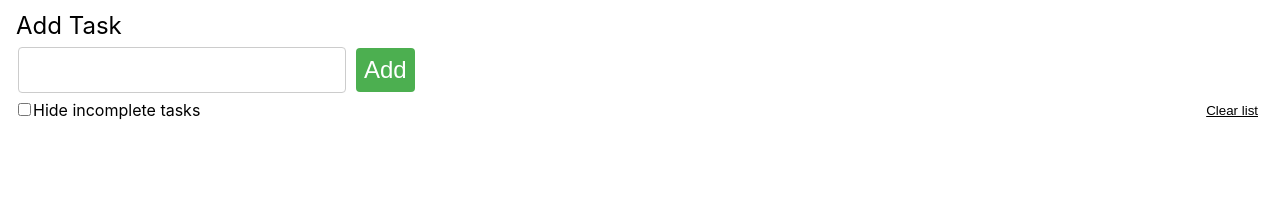
allows the user to clear the list
This screenshot has width=1280, height=203.
Simulate adding tasks as in previous tests
Type "Learn React Testing" into the field labelled "Add Task" at (182, 70), box [18, 47, 346, 93]
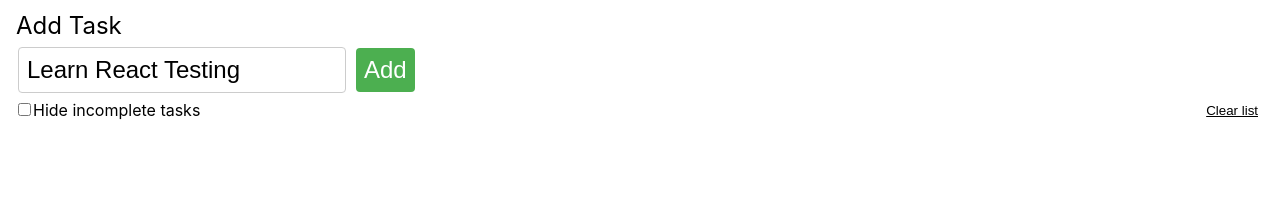
Click the button "Add" at (385, 70), box [356, 48, 415, 92]
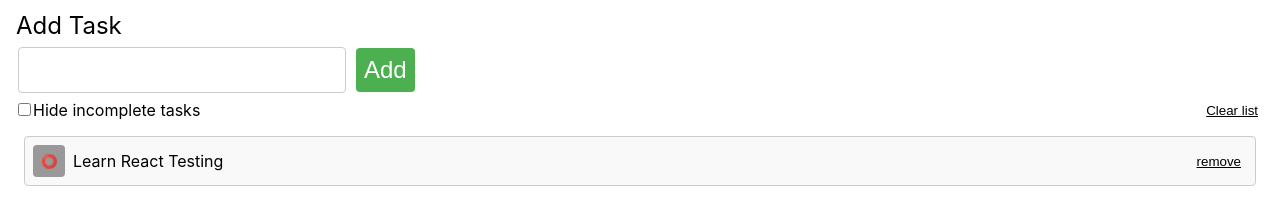
Check: the text "Learn React Testing" is shown, box [73, 151, 223, 171]
Simulate clearing the list
Click the button with aria-label "Clear all tasks" at (1232, 110), box [1200, 100, 1264, 120]
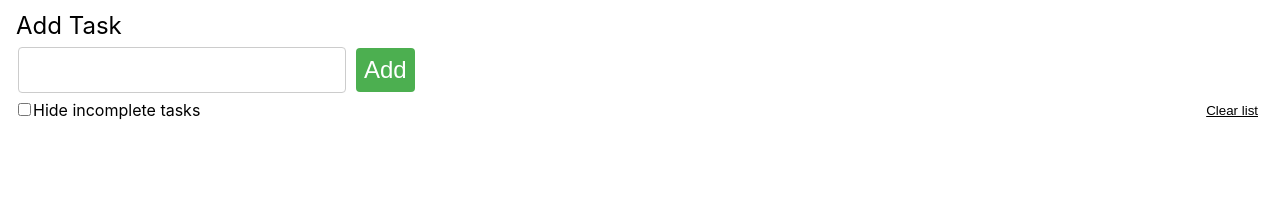
Check: the text "Learn React Testing" is gone
